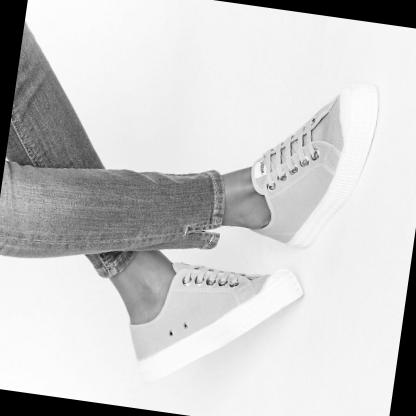ankle: (269, 217, 275, 223), (156, 316, 159, 319)
heel: (287, 238, 292, 244), (138, 356, 140, 359)
left_foot: (242, 69, 383, 257)
pinky: (336, 153, 341, 158), (267, 276, 269, 278)
right_foot: (123, 248, 309, 403)
toe: (269, 286, 272, 290), (342, 92, 344, 95)
